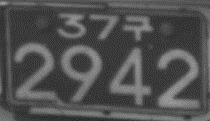2: (157, 46, 202, 110), (13, 41, 56, 101)
3: (57, 12, 86, 39)
4: (109, 46, 151, 107)
7: (88, 13, 120, 40)
9: (59, 44, 104, 103)
구: (123, 13, 153, 42)
